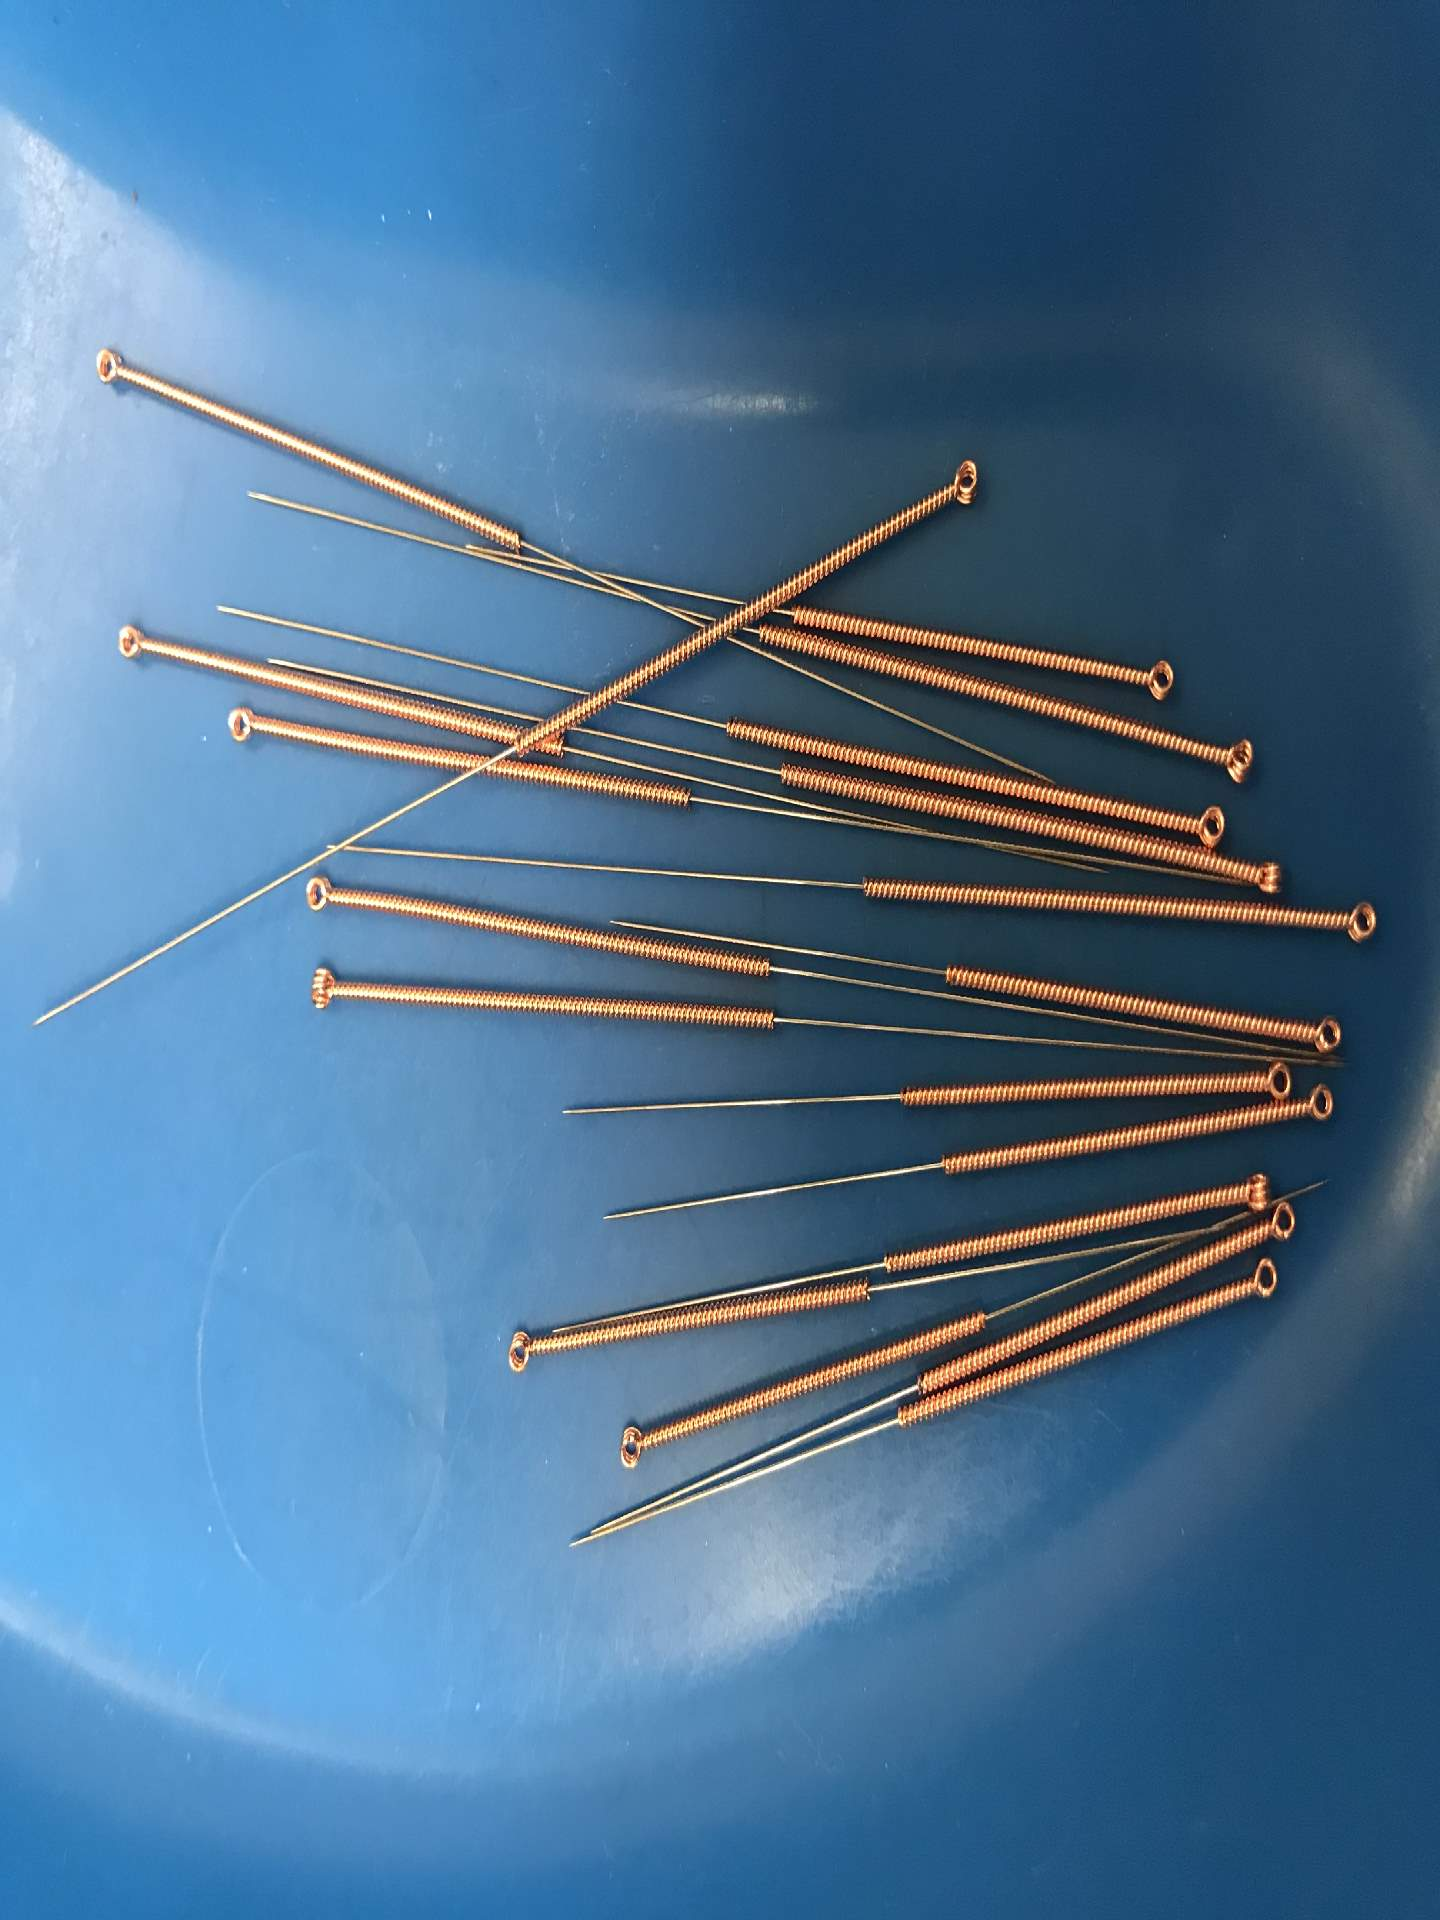needle: (290, 952, 355, 1023), (1203, 726, 1268, 791), (930, 447, 994, 513), (1330, 889, 1389, 955), (1122, 649, 1184, 711), (604, 1415, 663, 1480), (492, 1318, 549, 1383), (1293, 1002, 1351, 1066), (1237, 1250, 1292, 1314), (1175, 797, 1234, 854), (104, 612, 162, 670), (215, 695, 271, 753), (1290, 1075, 1345, 1134), (1227, 1164, 1280, 1222), (292, 866, 346, 921), (1237, 850, 1293, 903), (79, 339, 133, 392), (1254, 1196, 1305, 1250), (1249, 1054, 1298, 1107)
